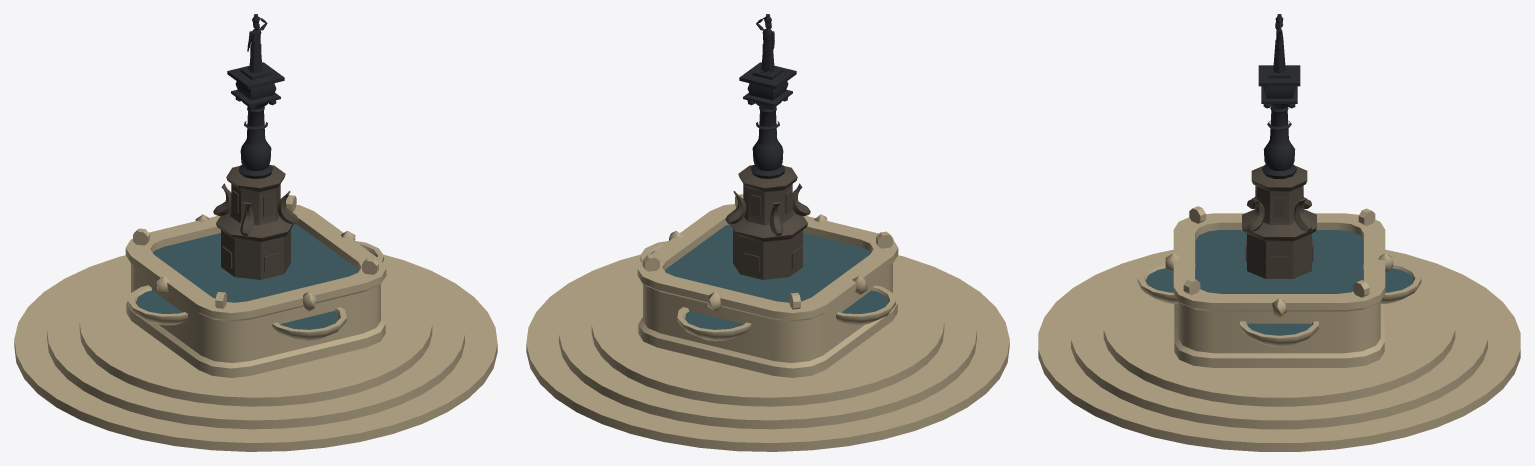
File: mon_rebekkabrunnen.glb
The picture shows the model from 3 angles, left to right: view 1: azimuth 30°, elevation 25°; view 2: azimuth 150°, elevation 25°; view 3: azimuth 270°, elevation 25°; orthographic projection.
Parts seen in each view (by area): view 1: mon_rebekkabrunnen; view 2: mon_rebekkabrunnen; view 3: mon_rebekkabrunnen.
Boxes of the visible parts, x1,y1,x2,y2 form: mon_rebekkabrunnen: (14, 14, 497, 451); mon_rebekkabrunnen: (526, 14, 1009, 451); mon_rebekkabrunnen: (1038, 14, 1520, 451).
Size of the model in its own units: 7.38 by 5.66 by 7.38.
